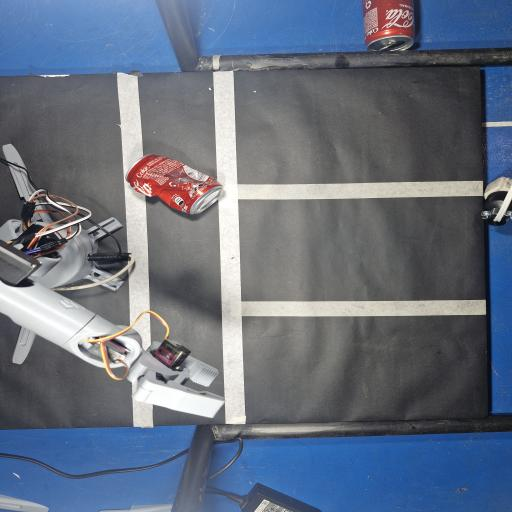lata_defectuoso: (125, 154, 223, 215)
